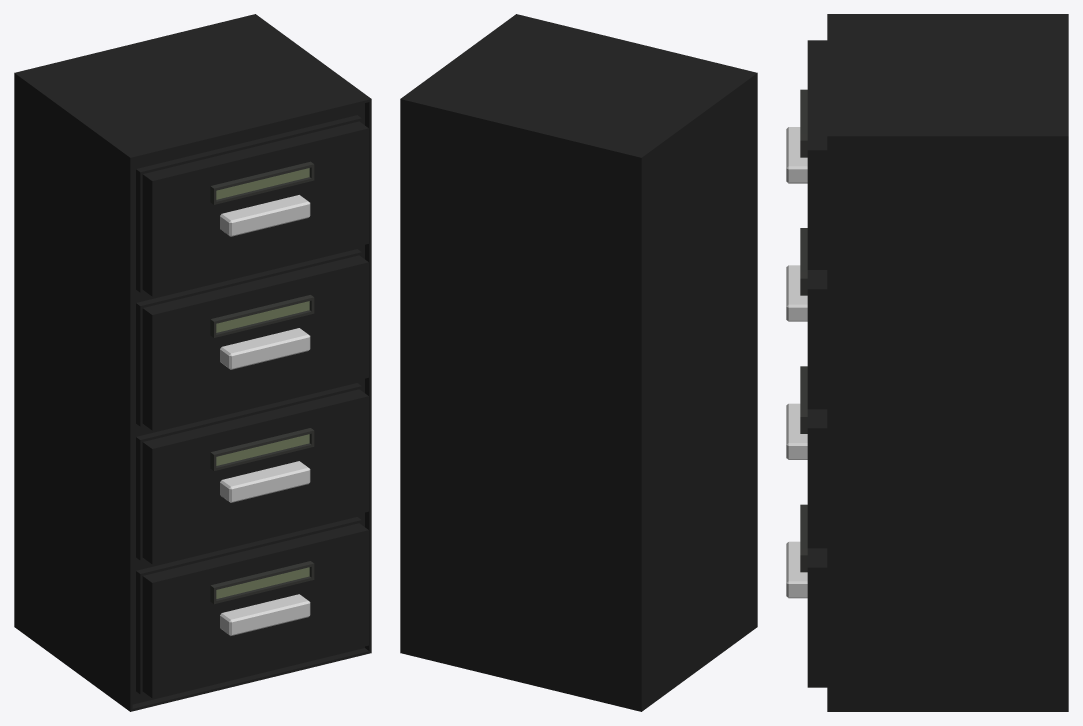
The model's file is filecabinet.glb.
3 views of the same model, side by side, from view 1: azimuth 30°, elevation 25°; view 2: azimuth 150°, elevation 25°; view 3: azimuth 270°, elevation 25° (orthographic). The views are drawn at different scales.
Parts seen in each view (by area): view 1: File cabinet; view 2: File cabinet; view 3: File cabinet.
Part boxes in pixels (x1,y1,x2,y2): File cabinet: [14, 14, 371, 711]; File cabinet: [400, 14, 757, 711]; File cabinet: [786, 14, 1068, 711].
Bounding box in the file's own units: 0.5306 × 1.16 × 0.5173.
Materials: 2 (2 with a texture image).
